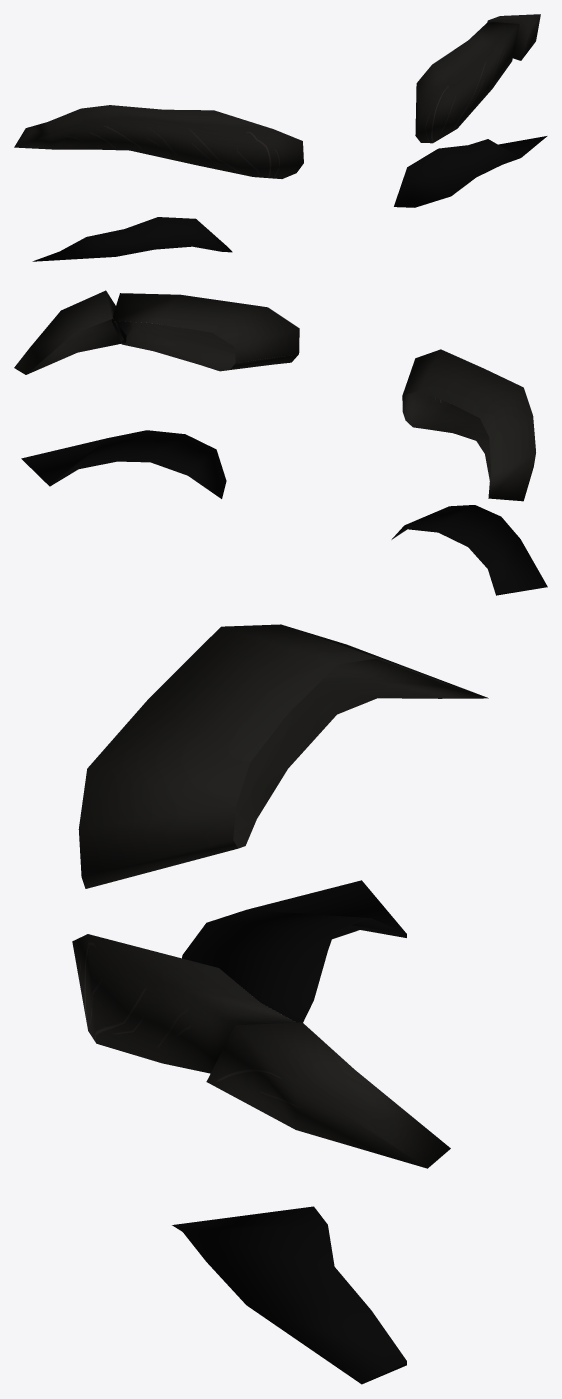
File: brous7.fbx
3 renders of one model, top to bottom at view 1: azimuth 30°, elevation 25°; view 2: azimuth 150°, elevation 25°; view 3: azimuth 270°, elevation 25°, orthographic. The views are drawn at different scales.
Visible parts, largest first — view 1: brous7; view 2: brous7; view 3: brous7.
Boxes of the visible parts, x1,y1,x2,y2 form: brous7: (14,14,547,261); brous7: (14,290,547,595); brous7: (72,624,488,1384).
Bounding box in the file's own units: 11.14 × 3.47 × 3.9.
